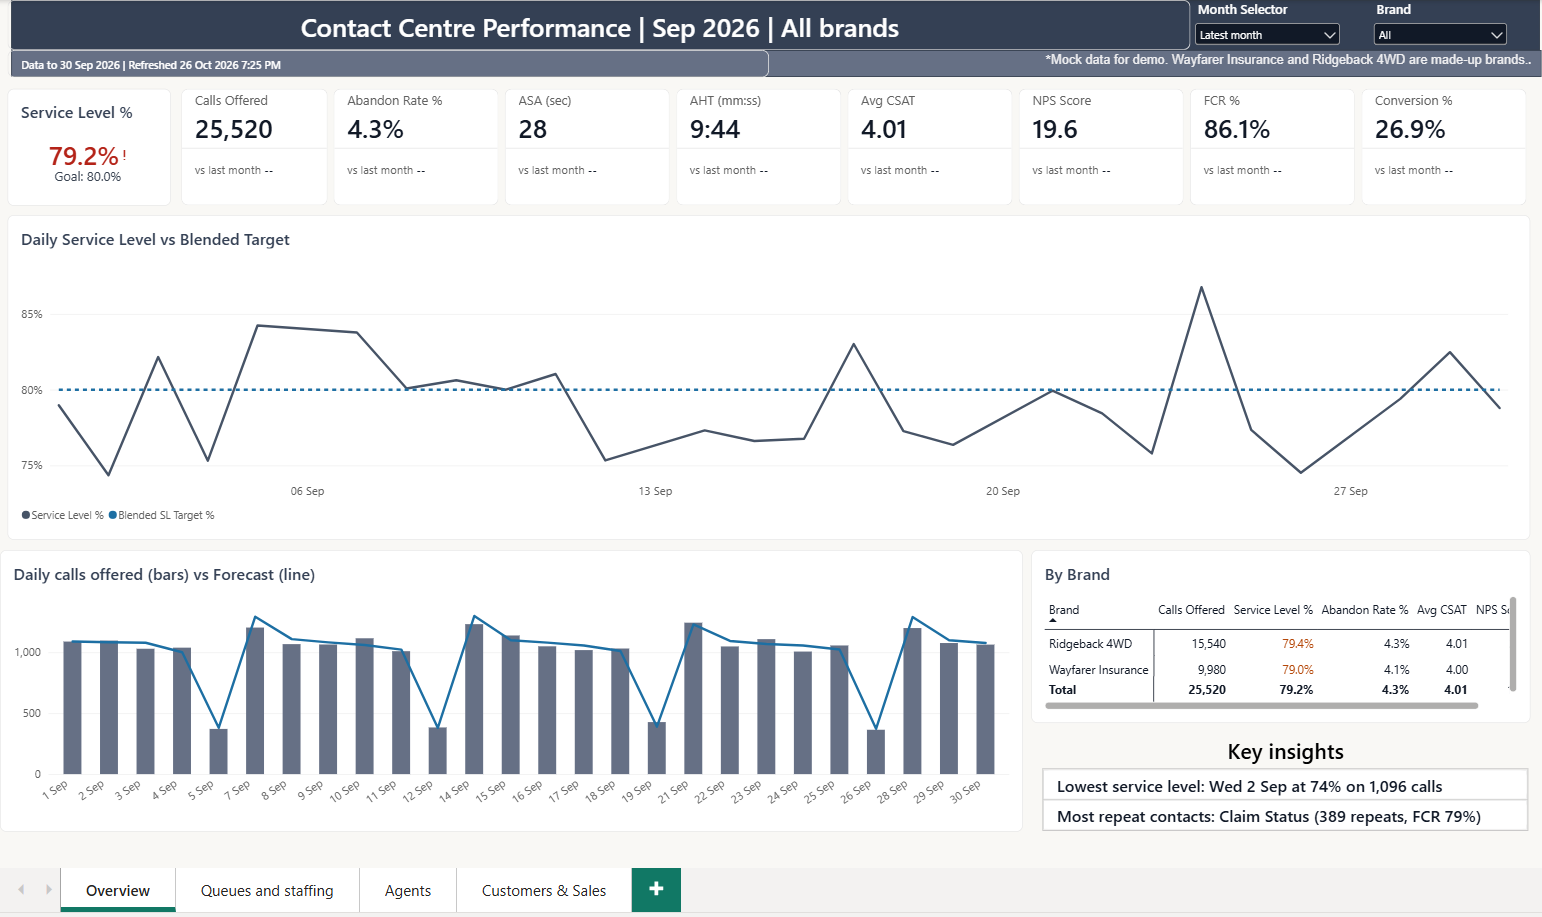

This screenshot's page, from the dashboard's own definition file:
{"tool":"powerbi","page":{"name":"Overview","canvas":[1920,1080],"ordinal":0},"visuals":[{"type":"shape","title":"Accent Bg","box":[13.4,62.5,1904.4,33.5],"z":0},{"type":"shape","title":"Header Bg","box":[13.4,0,1902.1,62.5],"z":1000},{"type":"cardVisual","fields":{"Data":["Calls.Abandon Rate %","Calls.ASA (sec)","Calls.AHT (mm:ss)","Surveys.Avg CSAT","Surveys.NPS Score","Interactions.FCR %","Interactions.Conversion %"]},"box":[394.7,110.7,1525.3,145.7],"z":2000},{"type":"lineClusteredColumnComboChart","title":"Daily calls offered (bars) vs Forecast (line)","fields":{"Category":["Date.Date"],"Y":["Calls.Calls Offered"],"Y2":["Forecast.Forecast Offered"]},"box":[0,683.8,1272.4,350.5],"z":3000},{"type":"lineChart","title":"Daily Service Level vs Blended Target","fields":{"Category":["Date.Date"],"Y":["Calls.Service Level %","Calls.Blended SL Target %"]},"box":[9.9,267.9,1893.7,404.4],"z":4000},{"type":"cardVisual","title":"Key insights","fields":{"Data":["Calls.Worst SL Day","Calls.Top Repeat Reason"]},"box":[1297.1,916.2,605,118],"z":5000},{"type":"cardVisual","fields":{"Data":["Calls.Calls Offered"]},"box":[225,110.7,182.6,145.7],"z":6000},{"type":"kpi","title":"Service Level %","fields":{"Goal":["Calls.Blended SL Target %"],"Indicator":["Calls.Service Level %"],"TrendLine":["Date.Reporting Month"]},"box":[9.2,110.7,202.9,145.7],"z":7000},{"type":"pivotTable","title":"\tBy Brand","fields":{"Rows":["Queue.Brand"],"Values":["Calls.Calls Offered","Calls.Service Level %","Calls.Abandon Rate %","Surveys.Avg CSAT","Surveys.NPS Score"]},"box":[1281.9,683.8,621,215.2],"z":8000},{"type":"cardVisual","fields":{"Data":["Calls.Report Title"]},"box":[8.9,0,1471.8,62.7],"z":9000},{"type":"slicer","fields":{"Values":["Date.Month Selector"]},"box":[1481,0,190,62.7],"z":10000},{"type":"slicer","fields":{"Values":["Queue.Brand"]},"box":[1704.2,0,175.2,62.7],"z":11000},{"type":"cardVisual","fields":{"Data":["Calls.Data As At"]},"box":[10.1,62.3,947.3,34.2],"z":12000},{"type":"textbox","box":[961.3,62.3,943.2,34.2],"z":12001}]}

Visuals, with their boxes on the page's 1920x1080 design canvas (x1, y1, x2, y2). These are canvas units, not pixel positions in the 1542x917 screenshot, which may show the page scaled, cropped or inside an application window:
"Accent Bg" shape: (13, 62, 1918, 96)
"Header Bg" shape: (13, 0, 1916, 62)
cardVisual - Calls.Abandon Rate % x Calls.ASA (sec): (395, 111, 1920, 256)
"Daily calls offered (bars) vs Forecast (line)" lineClusteredColumnComboChart: (0, 684, 1272, 1034)
"Daily Service Level vs Blended Target" lineChart: (10, 268, 1904, 672)
"Key insights" cardVisual: (1297, 916, 1902, 1034)
cardVisual - Calls.Calls Offered: (225, 111, 408, 256)
"Service Level %" kpi: (9, 111, 212, 256)
"	By Brand" pivotTable: (1282, 684, 1903, 899)
cardVisual - Calls.Report Title: (9, 0, 1481, 63)
slicer - Date.Month Selector: (1481, 0, 1671, 63)
slicer - Queue.Brand: (1704, 0, 1879, 63)
cardVisual - Calls.Data As At: (10, 62, 957, 96)
textbox: (961, 62, 1904, 96)
